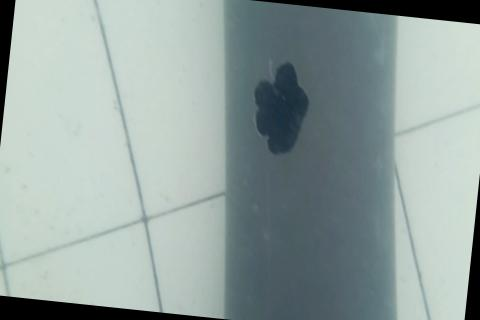kebocoran: (246, 54, 314, 162)
